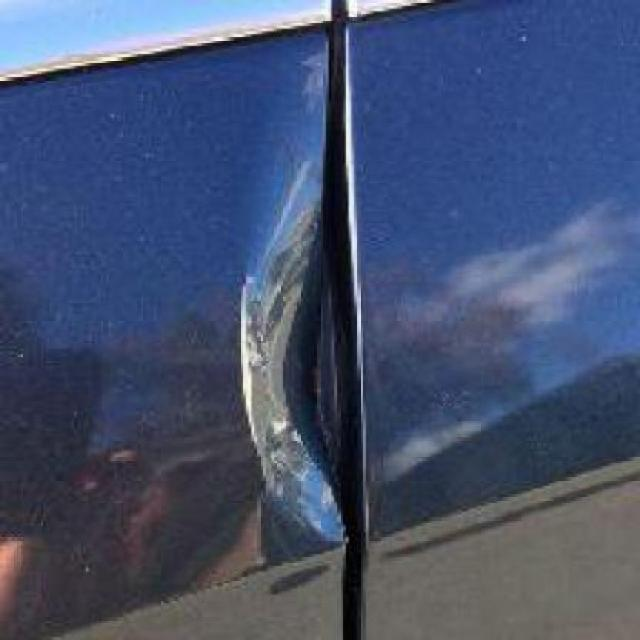dent-or-scratch: (228, 176, 362, 564)
